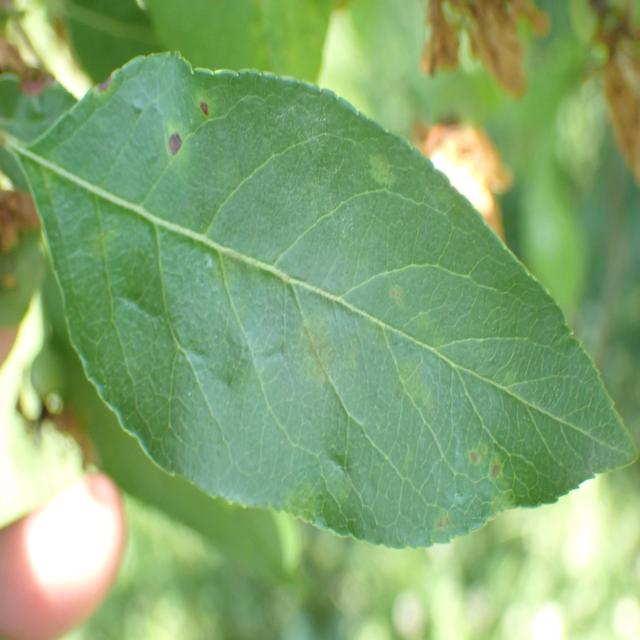scab: (59, 139, 596, 531)
